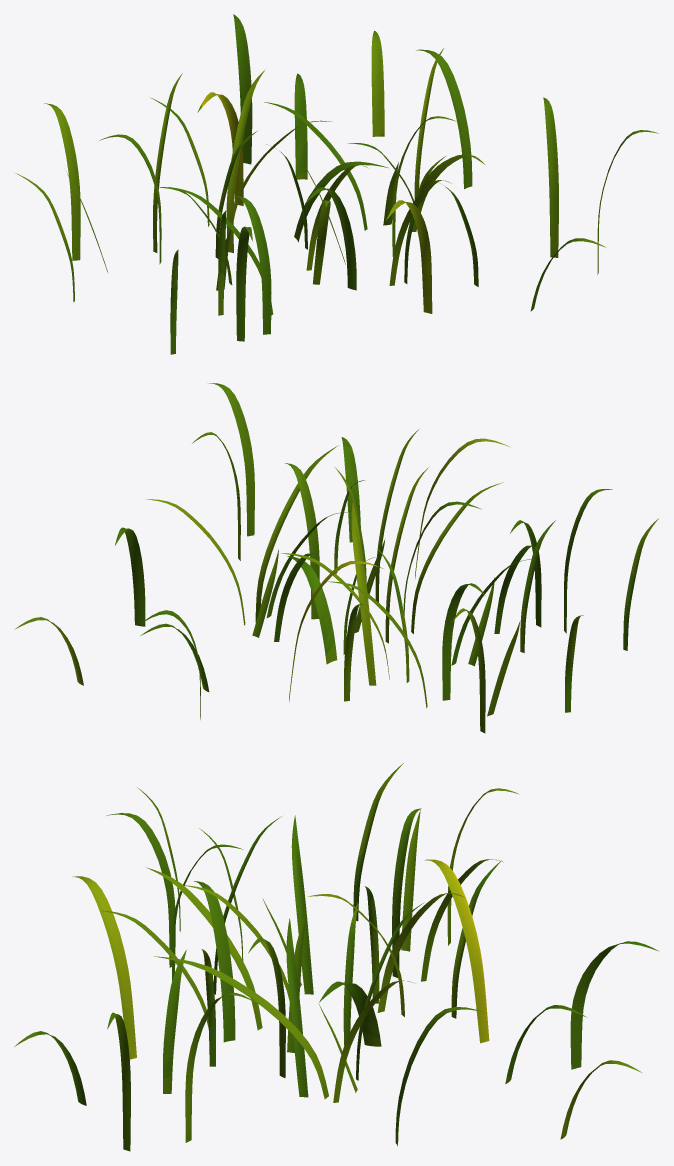
Rendered from GrassCouples.glb.
3 views of the same model, one above another, from view 1: azimuth 30°, elevation 25°; view 2: azimuth 150°, elevation 25°; view 3: azimuth 270°, elevation 25° (orthographic). The views are drawn at different scales.
Visible parts, largest first — view 1: Grass_20.012; view 2: Grass_20.012; view 3: Grass_20.012.
Part boxes in pixels (box(x1,y1,x2,y2)): Grass_20.012: box(15, 14, 658, 354); Grass_20.012: box(14, 383, 658, 733); Grass_20.012: box(14, 763, 658, 1151).
Bounding box in the file's own units: 2.58 × 0.6673 × 2.52.
1 material, 1 textured.
